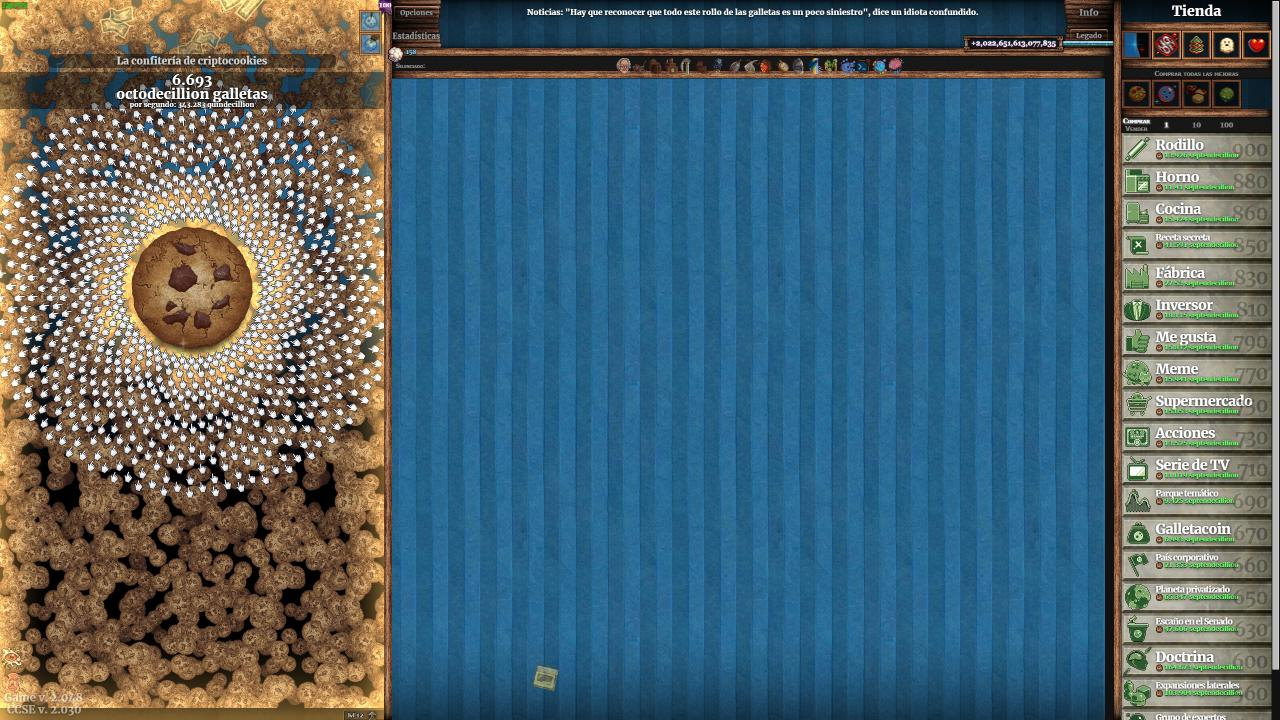GoldenCartridge: (531, 663, 562, 693)
